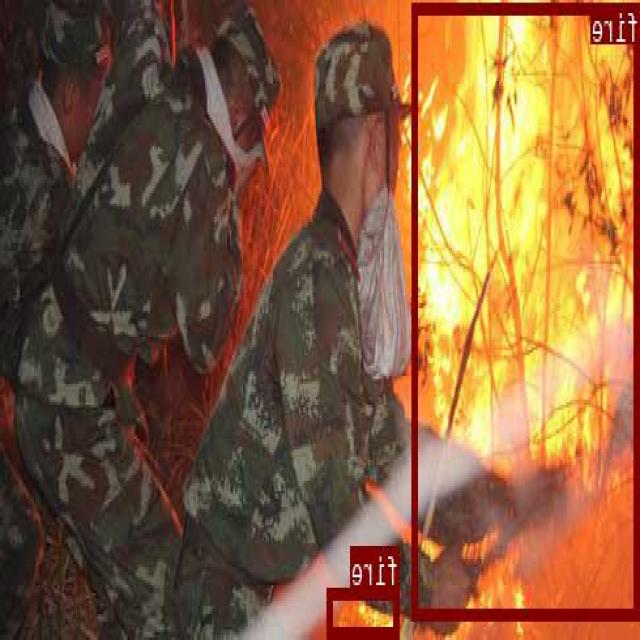fire: (413, 1, 640, 617), (329, 585, 401, 635)
